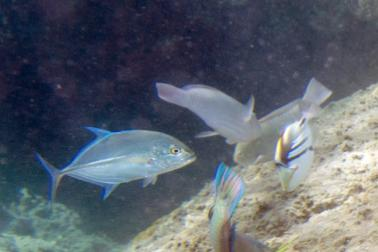Balistidae -Triggerfishes-: (270, 97, 316, 198)
Carangidae -Jacks-: (23, 137, 197, 219)
Scaridae -Parrotfishes-: (146, 71, 263, 146)
